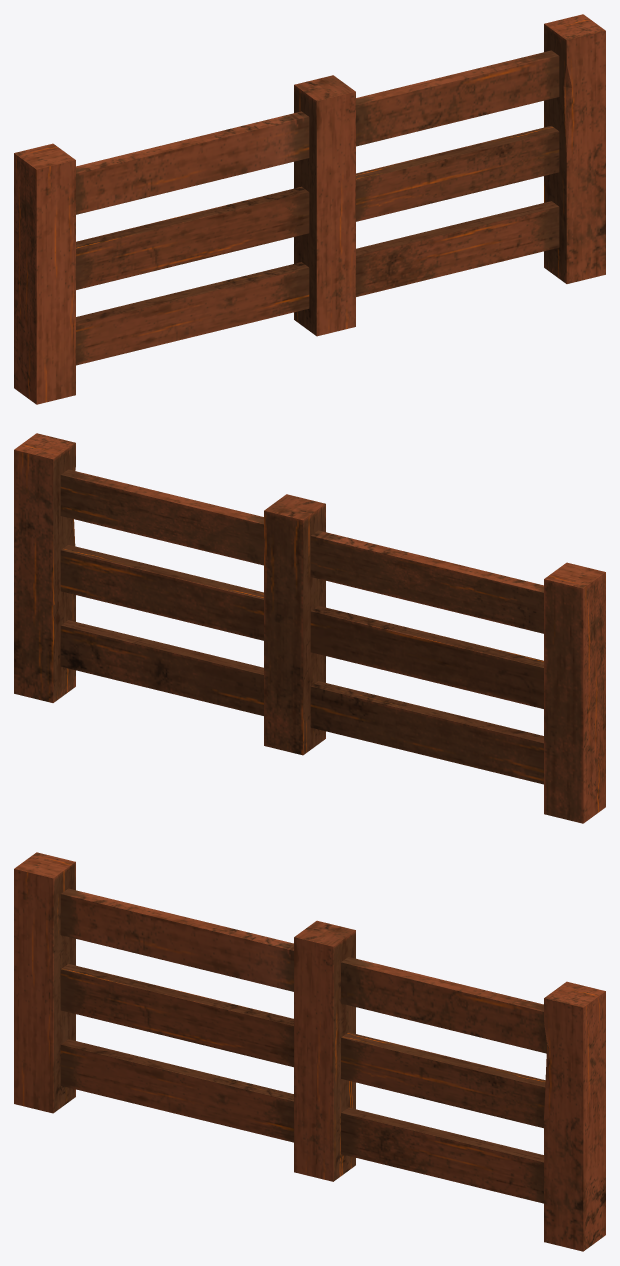
File: FRM0510033.fbx
3 views of the same model, one above another, from view 1: azimuth 30°, elevation 25°; view 2: azimuth 150°, elevation 25°; view 3: azimuth 330°, elevation 25° (orthographic).
Parts seen in each view (by area): view 1: smFRM0510033; view 2: smFRM0510033; view 3: smFRM0510033.
Boxes of the visible parts, x1=… form: smFRM0510033: x1=14, y1=14, x2=605, y2=404; smFRM0510033: x1=14, y1=433, x2=605, y2=823; smFRM0510033: x1=14, y1=852, x2=605, y2=1251.
Bounding box in the file's own units: 261 × 107 × 18.01.
1 material, 1 textured.
